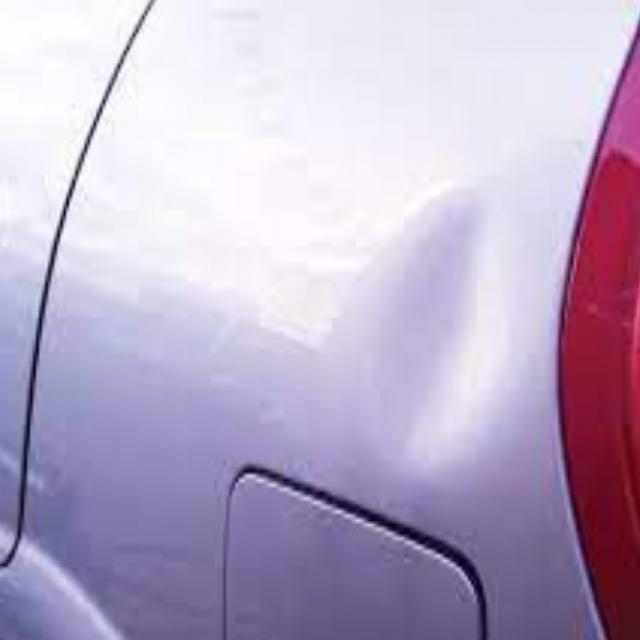dents: (345, 197, 520, 471)
